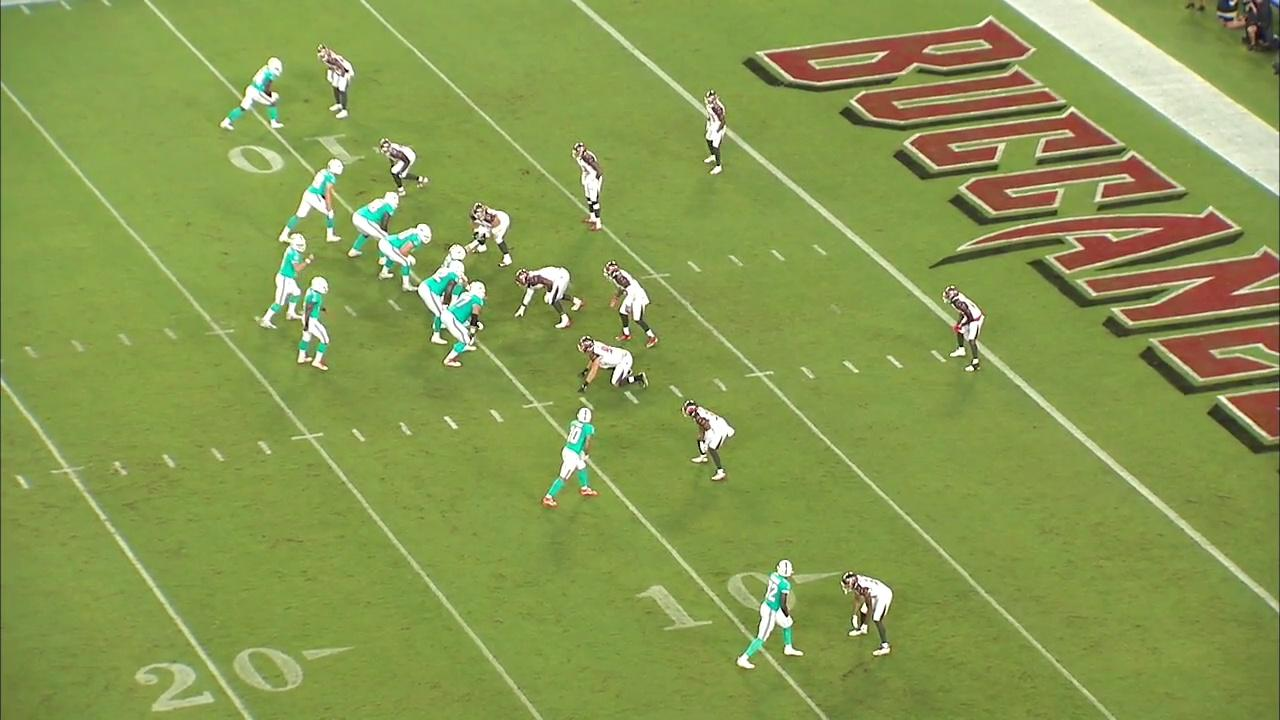defense: (840, 567, 897, 658), (603, 259, 660, 349), (677, 399, 738, 482), (510, 265, 585, 332), (574, 333, 651, 395), (941, 282, 987, 371), (568, 142, 606, 235), (463, 201, 512, 270), (315, 44, 357, 120), (378, 137, 431, 197), (702, 87, 730, 175)
oline: (435, 278, 488, 370), (416, 259, 467, 348), (344, 191, 402, 268), (377, 222, 435, 294), (432, 243, 472, 309)
qb: (260, 232, 315, 334)
skill: (734, 557, 802, 673), (542, 407, 602, 509), (278, 155, 345, 245), (217, 56, 286, 134), (293, 274, 337, 372)
